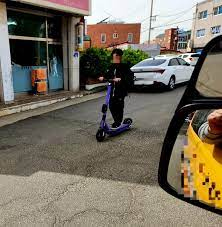kick_wheel: (96, 129, 106, 141)
